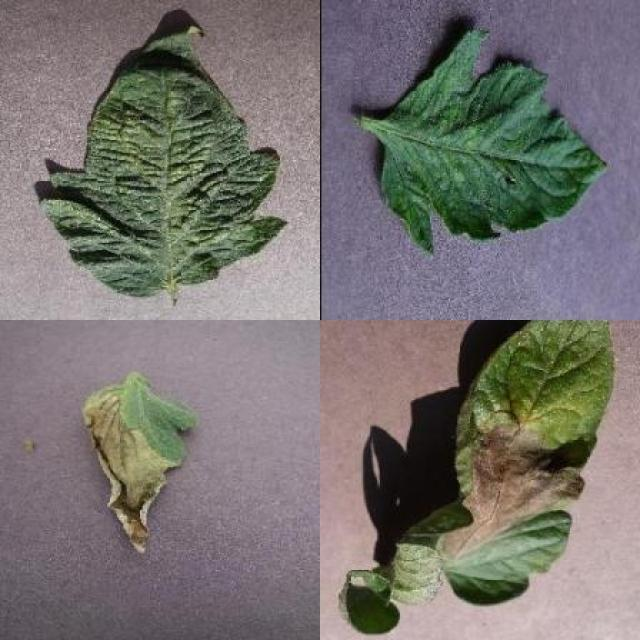Late Blight: (390, 319, 617, 606), (81, 379, 199, 555)
Mosaic Virus: (378, 30, 608, 256)
Spider Mites: (42, 22, 287, 298)
